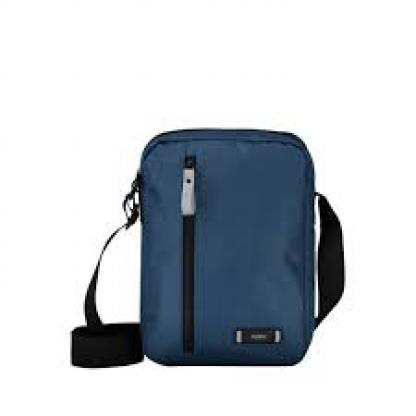morral: (65, 111, 353, 379)
